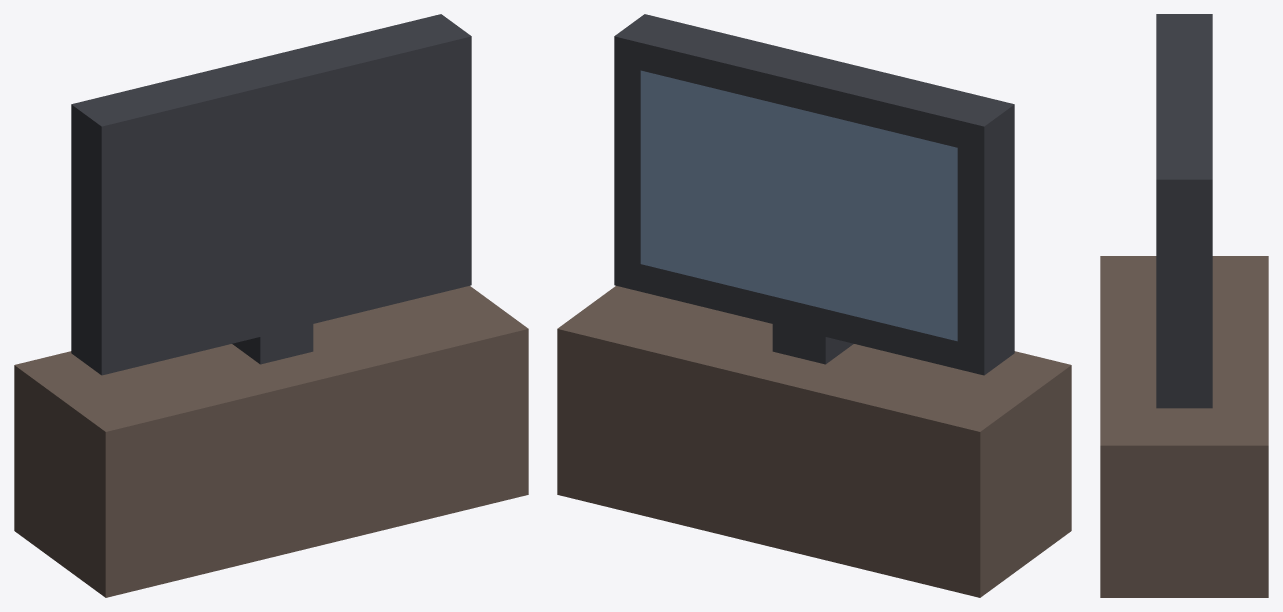
File: tele.glb
The picture shows the model from 3 angles, left to right: view 1: azimuth 30°, elevation 25°; view 2: azimuth 150°, elevation 25°; view 3: azimuth 270°, elevation 25°; orthographic projection. The views are drawn at different scales.
Parts seen in each view (by area): view 1: main; view 2: main; view 3: main.
Boxes of the visible parts, left/top/right/bottom form: main: left=14, top=14, right=528, bottom=597; main: left=557, top=14, right=1071, bottom=597; main: left=1100, top=14, right=1268, bottom=597.
Size of the model in its own units: 1 by 1 by 0.375.
